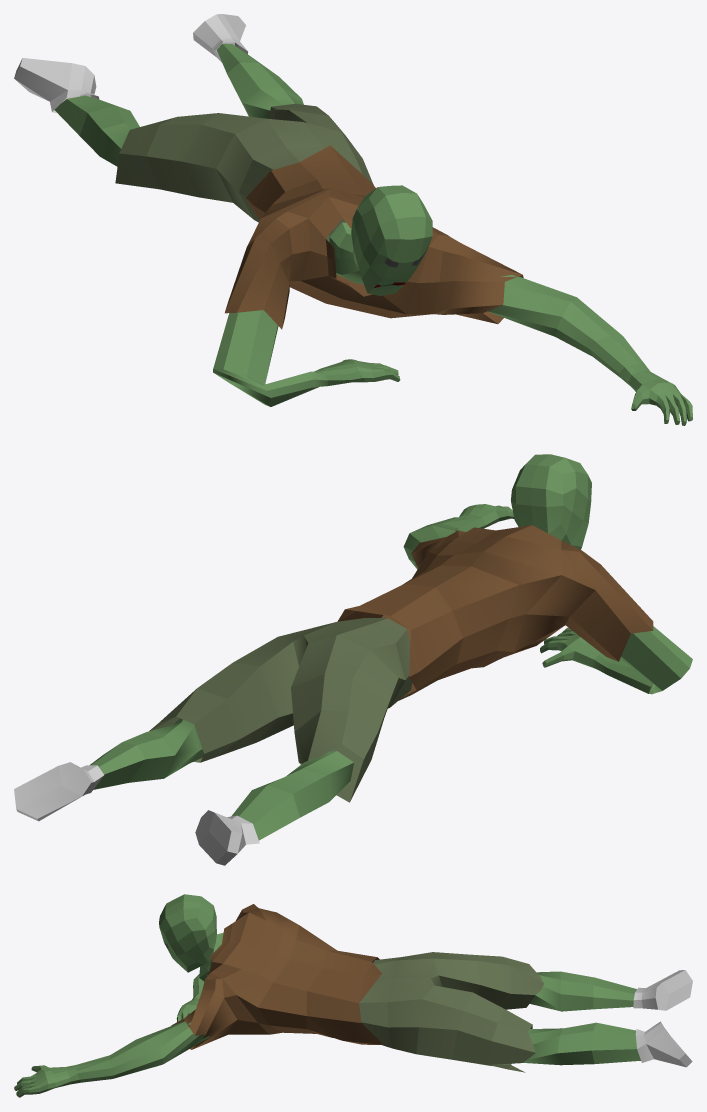
File: ZombieCrawl(115).obj
3 views of the same model, one above another, from view 1: azimuth 30°, elevation 25°; view 2: azimuth 150°, elevation 25°; view 3: azimuth 270°, elevation 25° (orthographic). The views are drawn at different scales.
Visible parts, largest first — view 1: Object001; view 2: Object001; view 3: Object001.
Boxes of the visible parts, <box> form: Object001: <box>14,14,692,425</box>; Object001: <box>14,454,692,865</box>; Object001: <box>14,894,692,1097</box>.
Size of the model in its own units: 32.35 by 17.3 by 75.03.
